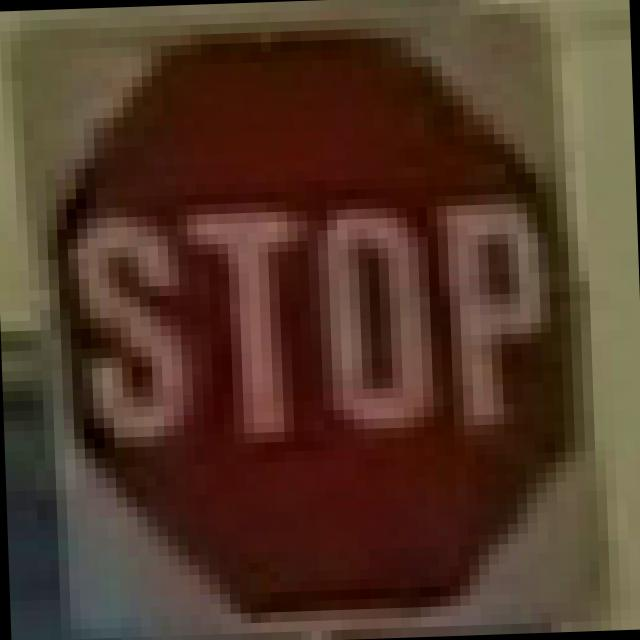mandatorystop_sign: (30, 12, 590, 620)
